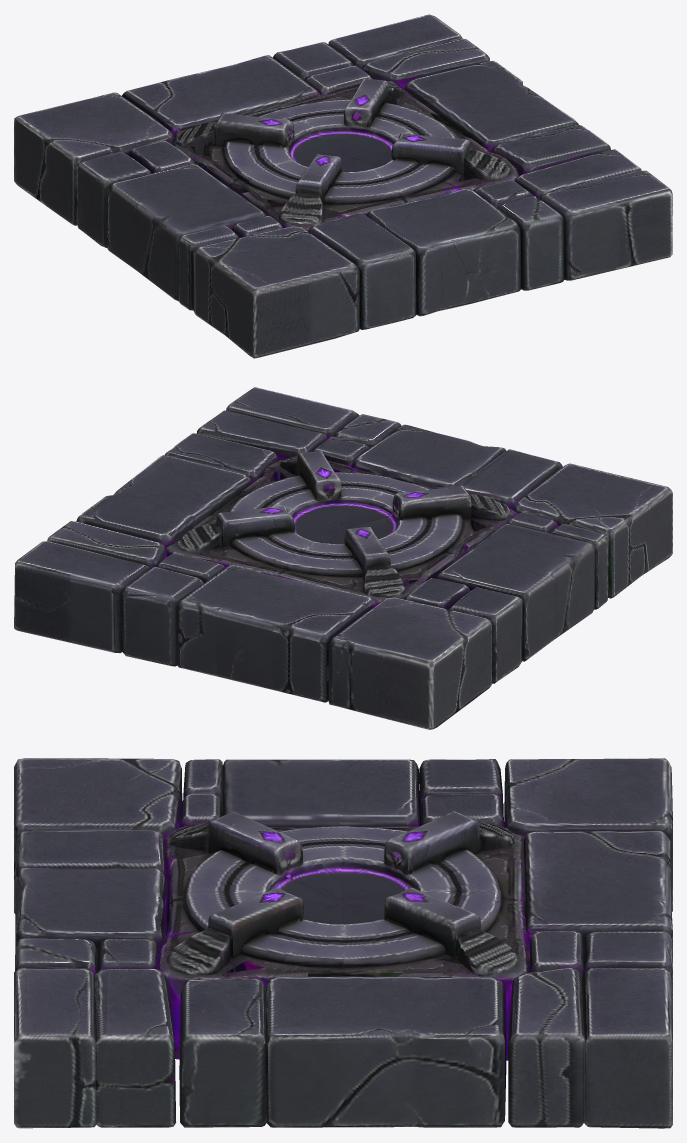
File: snare_armed.glb
The picture shows the model from 3 angles, top to bottom: view 1: azimuth 30°, elevation 25°; view 2: azimuth 150°, elevation 25°; view 3: azimuth 270°, elevation 25°; orthographic projection. The views are drawn at different scales.
Size of the model in its own units: 1 by 0.229 by 1.
1 material, 1 textured.
